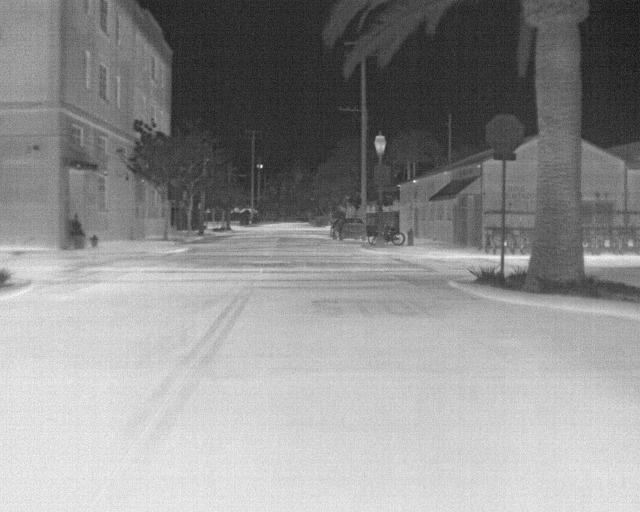bicycle: (484, 227, 501, 253), (506, 228, 520, 255), (515, 230, 531, 252), (625, 230, 639, 254), (612, 232, 626, 255), (600, 233, 615, 254), (388, 228, 405, 245), (582, 232, 595, 253), (589, 234, 602, 253), (367, 227, 380, 244)
car: (329, 217, 367, 243)
